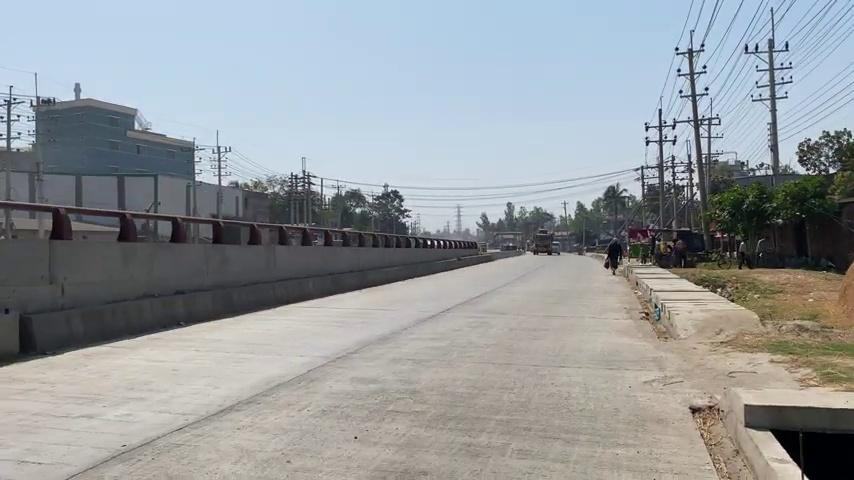Fallen-tree: (1, 198, 514, 356)
Fence: (605, 237, 621, 275), (737, 238, 752, 269)
Garbage: (743, 6, 793, 257), (675, 29, 714, 251)
Garbage-bin: (737, 385, 854, 480)
Rickshaw: (531, 228, 553, 255)
